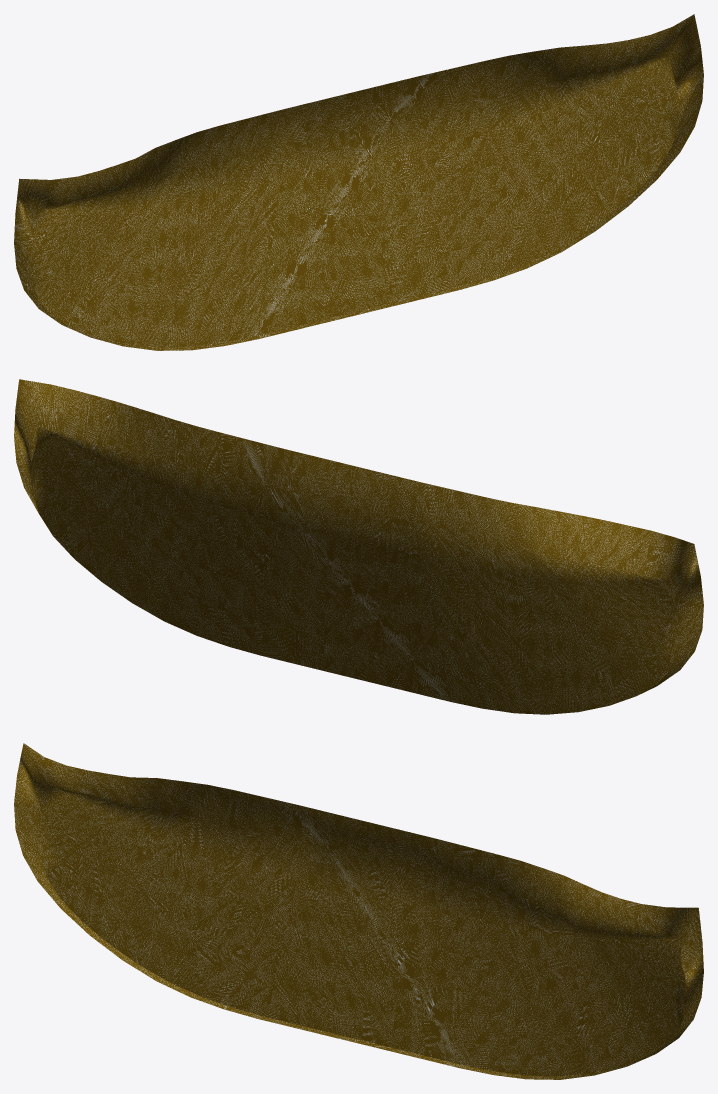
File: original-3.obj
The picture shows the model from 3 angles, top to bottom: view 1: azimuth 30°, elevation 25°; view 2: azimuth 150°, elevation 25°; view 3: azimuth 330°, elevation 25°; orthographic projection.
Parts seen in each view (by area): view 1: Group4/mesh2/mesh2-geometry#mesh2-geometry; view 2: Group4/mesh2/mesh2-geometry#mesh2-geometry; view 3: Group4/mesh2/mesh2-geometry#mesh2-geometry.
Part boxes in pixels (bbox=[...]): Group4/mesh2/mesh2-geometry#mesh2-geometry: bbox=[14, 14, 703, 350]; Group4/mesh2/mesh2-geometry#mesh2-geometry: bbox=[14, 379, 703, 714]; Group4/mesh2/mesh2-geometry#mesh2-geometry: bbox=[14, 743, 703, 1079].
Size of the model in its own units: 0.8352 by 0.25 by 0.0318.
